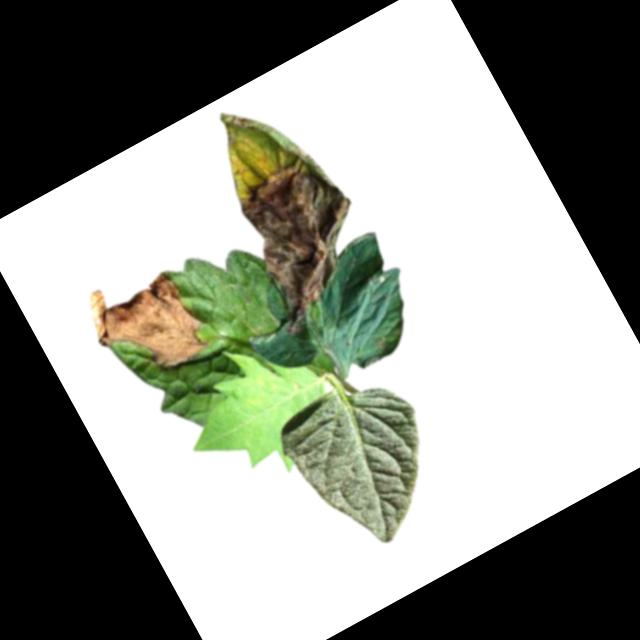Late_blight: (181, 77, 397, 341), (75, 251, 215, 393), (244, 390, 266, 412), (285, 373, 305, 394)
healthy: (267, 360, 465, 567)
